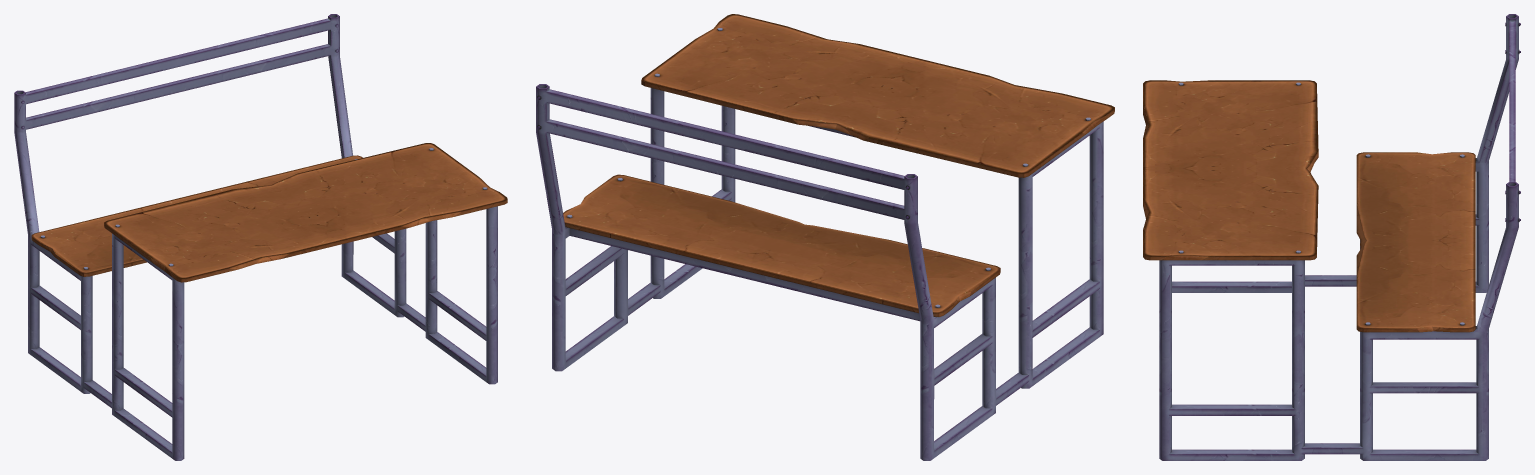
Rendered from Desk 3.obj.
3 views of the same model, side by side, from view 1: azimuth 30°, elevation 25°; view 2: azimuth 150°, elevation 25°; view 3: azimuth 270°, elevation 25° (orthographic). The views are drawn at different scales.
Visible parts, largest first — view 1: Desk_3; view 2: Desk_3; view 3: Desk_3.
Part boxes in pixels (x1,y1,x2,y2): Desk_3: (14, 14, 507, 460); Desk_3: (536, 14, 1114, 460); Desk_3: (1143, 14, 1520, 460).
Size of the model in its own units: 8.4 by 6.1 by 7.61.
